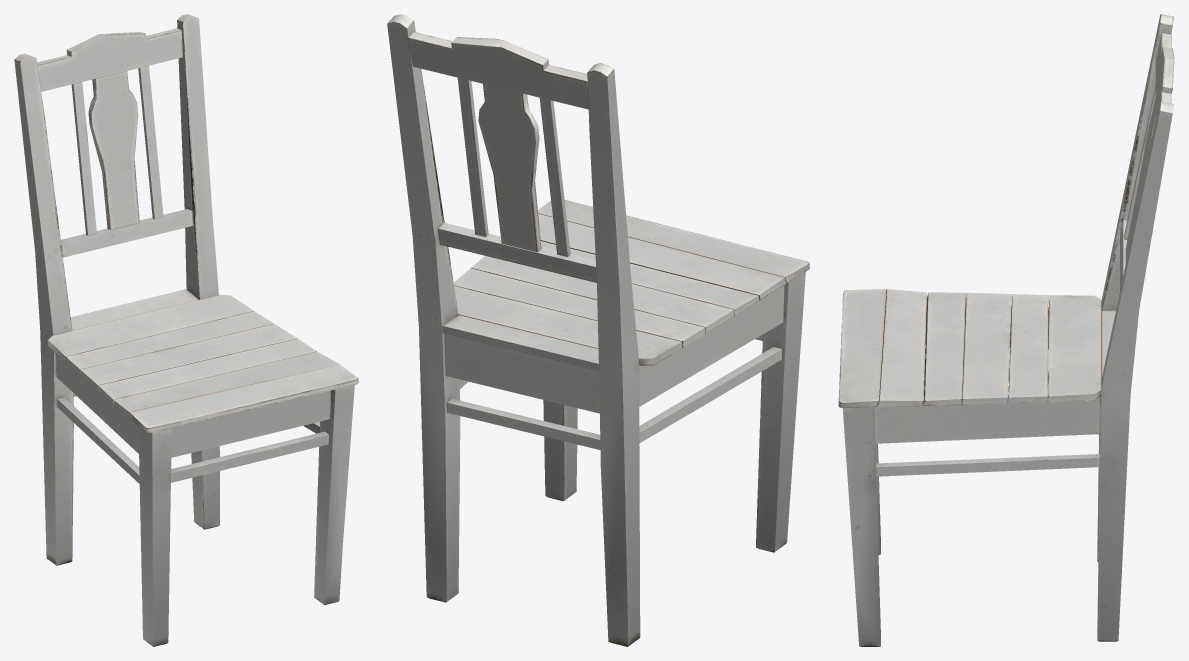
Rendered from painted_wooden_chair_01.glb.
3 renders of one model, left to right at view 1: azimuth 30°, elevation 25°; view 2: azimuth 150°, elevation 25°; view 3: azimuth 270°, elevation 25°, orthographic. The views are drawn at different scales.
Visible parts, largest first — view 1: painted_wooden_chair_01; view 2: painted_wooden_chair_01; view 3: painted_wooden_chair_01.
Part boxes in pixels (x1,y1,x2,y2): painted_wooden_chair_01: (14, 14, 358, 646); painted_wooden_chair_01: (387, 14, 809, 646); painted_wooden_chair_01: (838, 14, 1174, 646).
Bounding box in the file's own units: 0.4298 × 0.9558 × 0.5397.
Materials: 1 (1 with a texture image).
